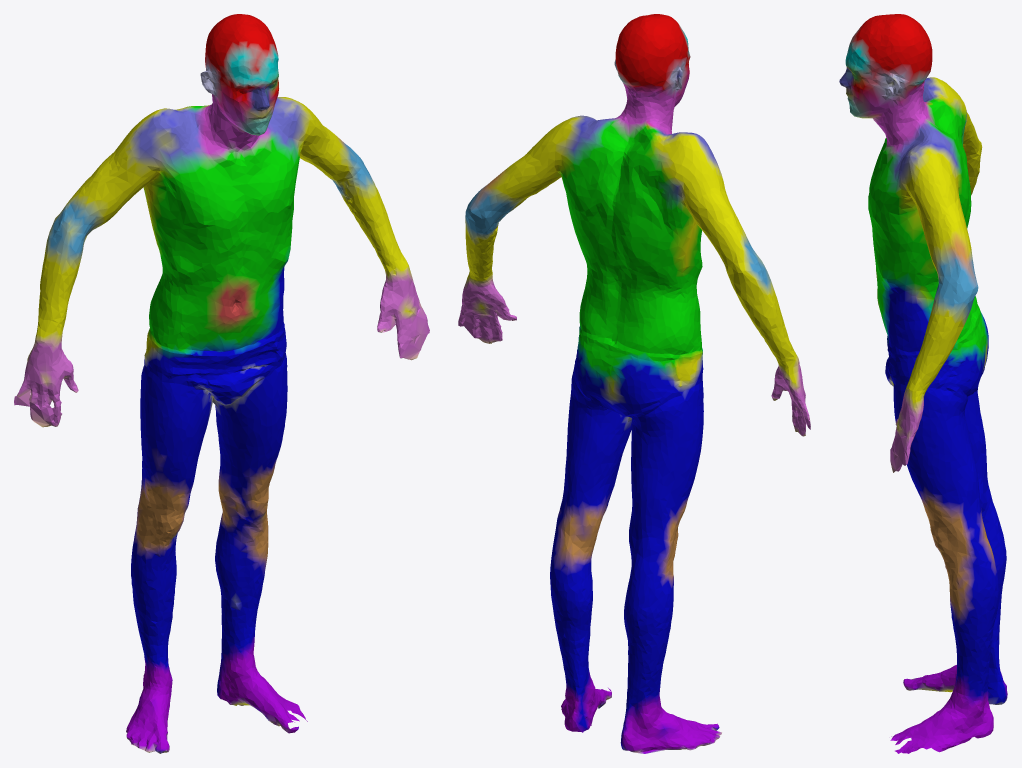
Rendered from 5_output_fine_grained.glb.
3 renders of one model, left to right at view 1: azimuth 30°, elevation 25°; view 2: azimuth 150°, elevation 25°; view 3: azimuth 270°, elevation 25°, orthographic. The views are drawn at different scales.
Visible parts, largest first — view 1: 5_output_fine_grained.obj; view 2: 5_output_fine_grained.obj; view 3: 5_output_fine_grained.obj.
Boxes of the visible parts, x1=… form: 5_output_fine_grained.obj: x1=14, y1=14, x2=429, y2=753; 5_output_fine_grained.obj: x1=458, y1=14, x2=810, y2=753; 5_output_fine_grained.obj: x1=839, y1=14, x2=1007, y2=753.
Bounding box in the file's own units: 1.01 × 1.78 × 0.3841.
